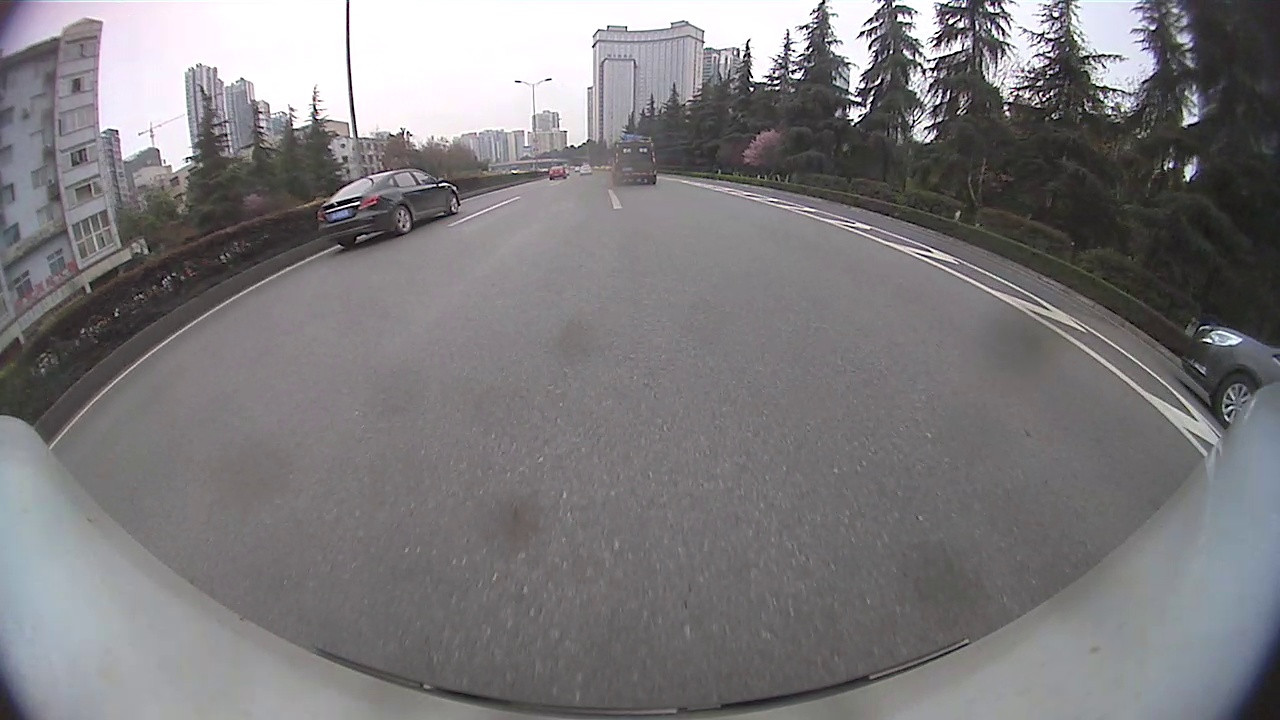car: (315, 168, 462, 249), (613, 143, 656, 186), (549, 166, 567, 181)
front: (1214, 370, 1258, 431), (447, 191, 461, 215)
rear: (395, 205, 413, 239)
